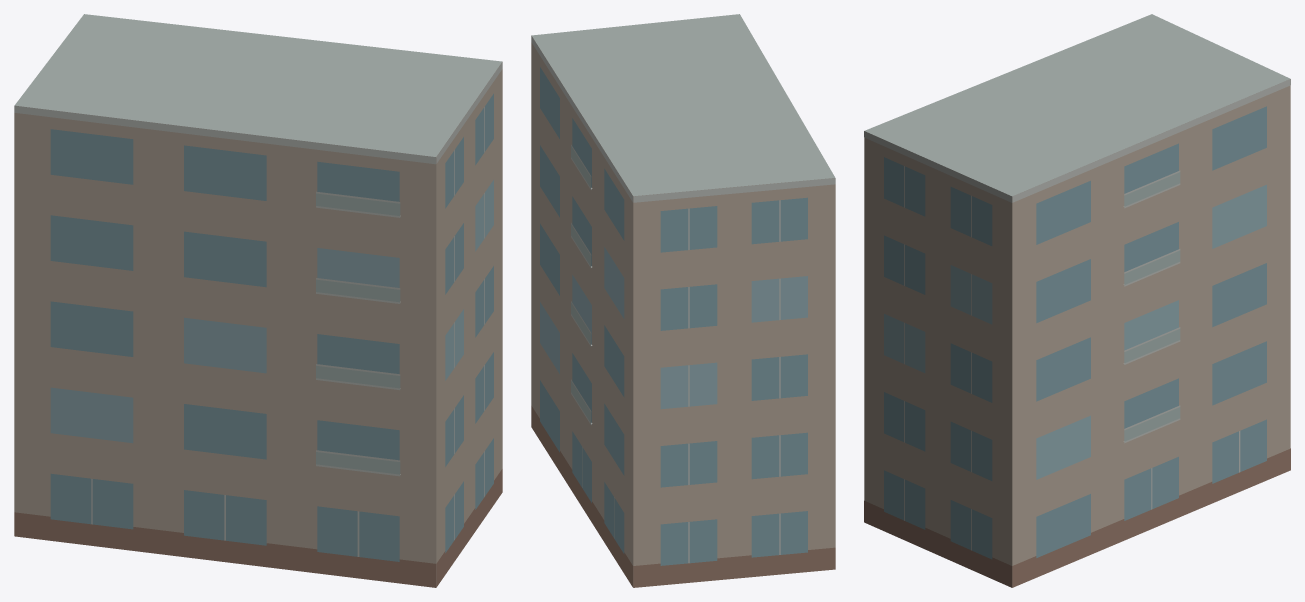
The model's file is survey-upis-32882427.glb.
The picture shows the model from 3 angles, left to right: view 1: azimuth 30°, elevation 25°; view 2: azimuth 150°, elevation 25°; view 3: azimuth 270°, elevation 25°; orthographic projection. The views are drawn at different scales.
Parts seen in each view (by area): view 1: survey-upis-32882427.tmp; view 2: survey-upis-32882427.tmp; view 3: survey-upis-32882427.tmp.
Part boxes in pixels (x1,y1,x2,y2): survey-upis-32882427.tmp: [14, 14, 502, 587]; survey-upis-32882427.tmp: [531, 14, 835, 587]; survey-upis-32882427.tmp: [864, 14, 1290, 587].
Size of the model in its own units: 14.55 by 14.55 by 14.38.
